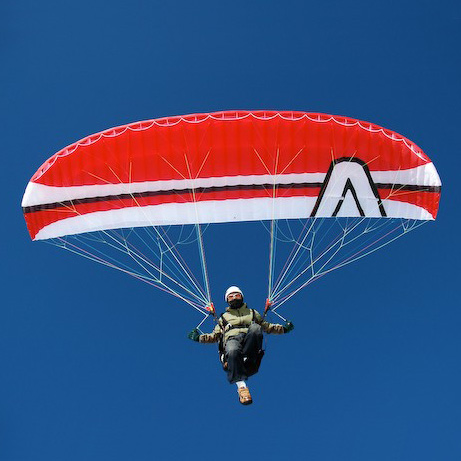Paraglider: (23, 105, 451, 257)
